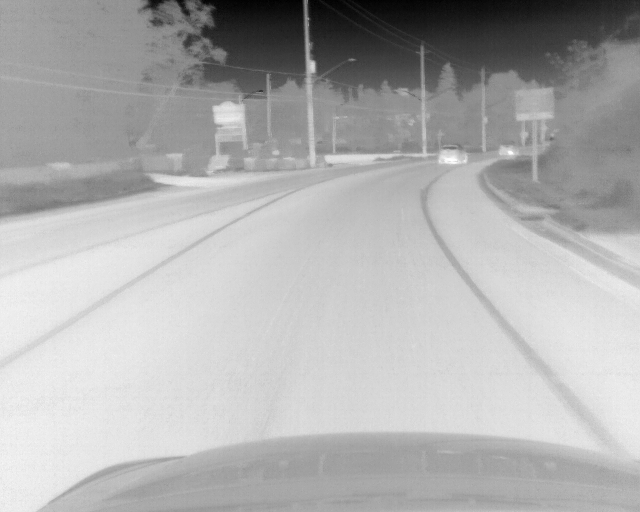car: (438, 143, 468, 164), (499, 143, 518, 155)
